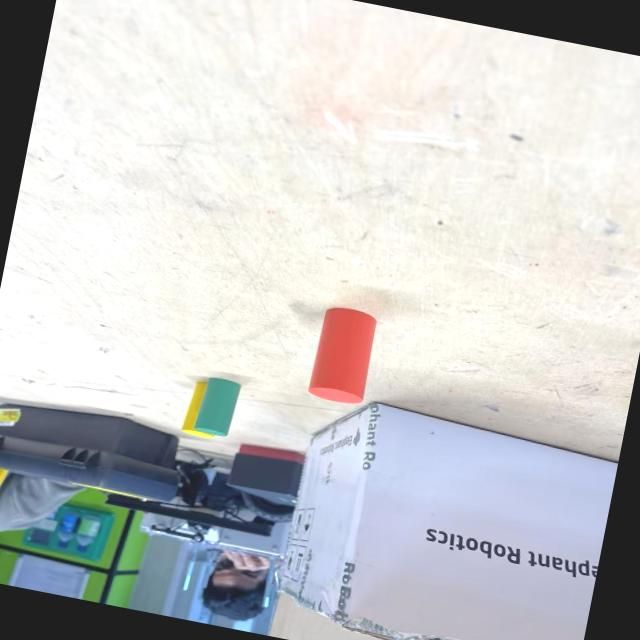red_cylinder: (306, 304, 379, 408)
